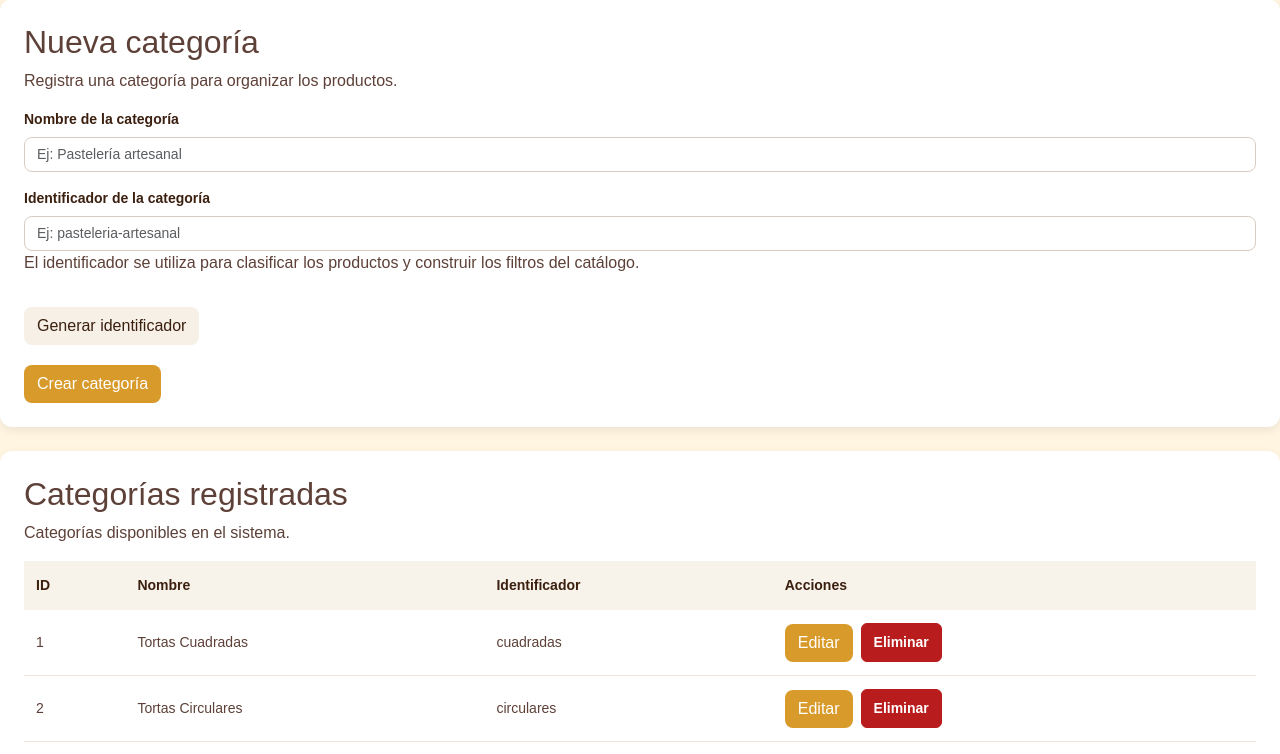
Test: C3-09 - Administración de categorías › permite editar el nombre de una categoría
This screenshot has width=1280, height=754.
(page scrolled)
expect the text "Tortas Cuadradas" is shown: met, box [125, 610, 484, 676]
Click the button with aria-label "Editar Tortas Cuadradas". click: (819, 643)
box: [785, 624, 853, 662]
(page scrolled)
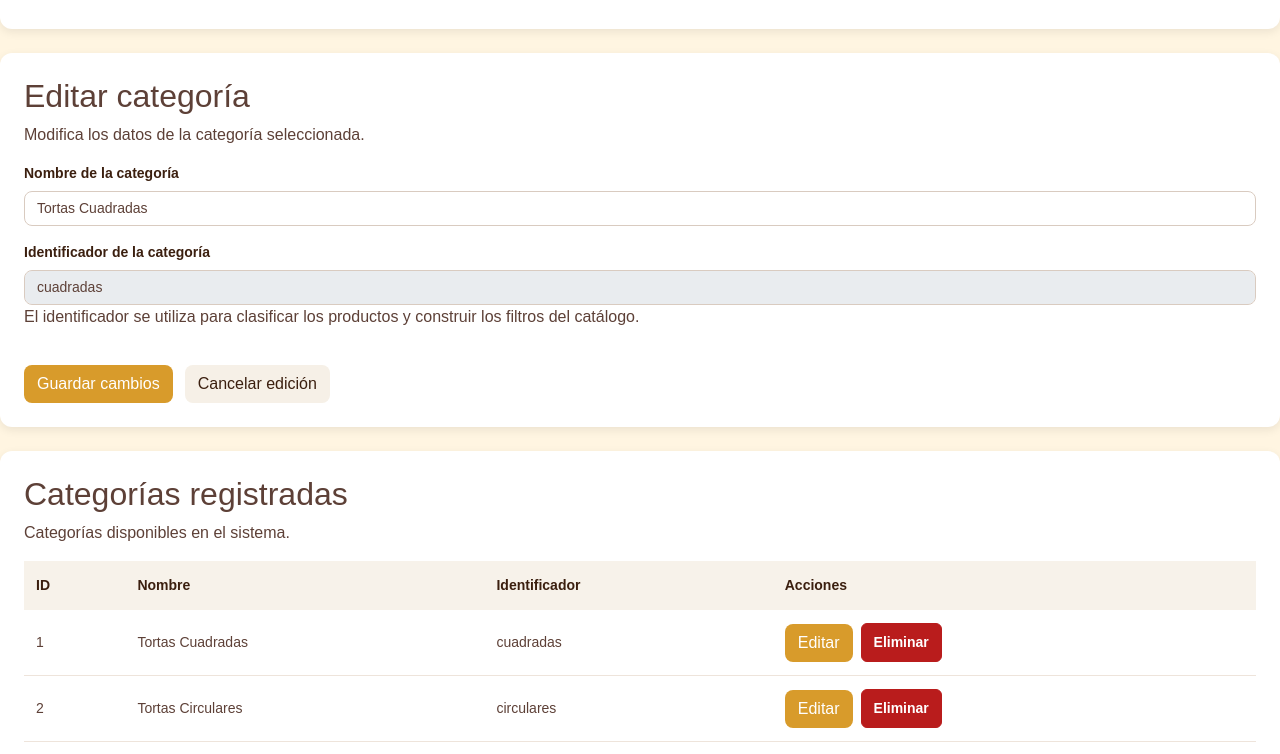
expect the field labelled "Identificador de la categoría" is disabled: met, box [24, 270, 1256, 305]
Replace the text in the field labelled "Nombre de la categoría" with "Tortas Cuadradas Editadas". click: (640, 208)
box: [24, 191, 1256, 226]
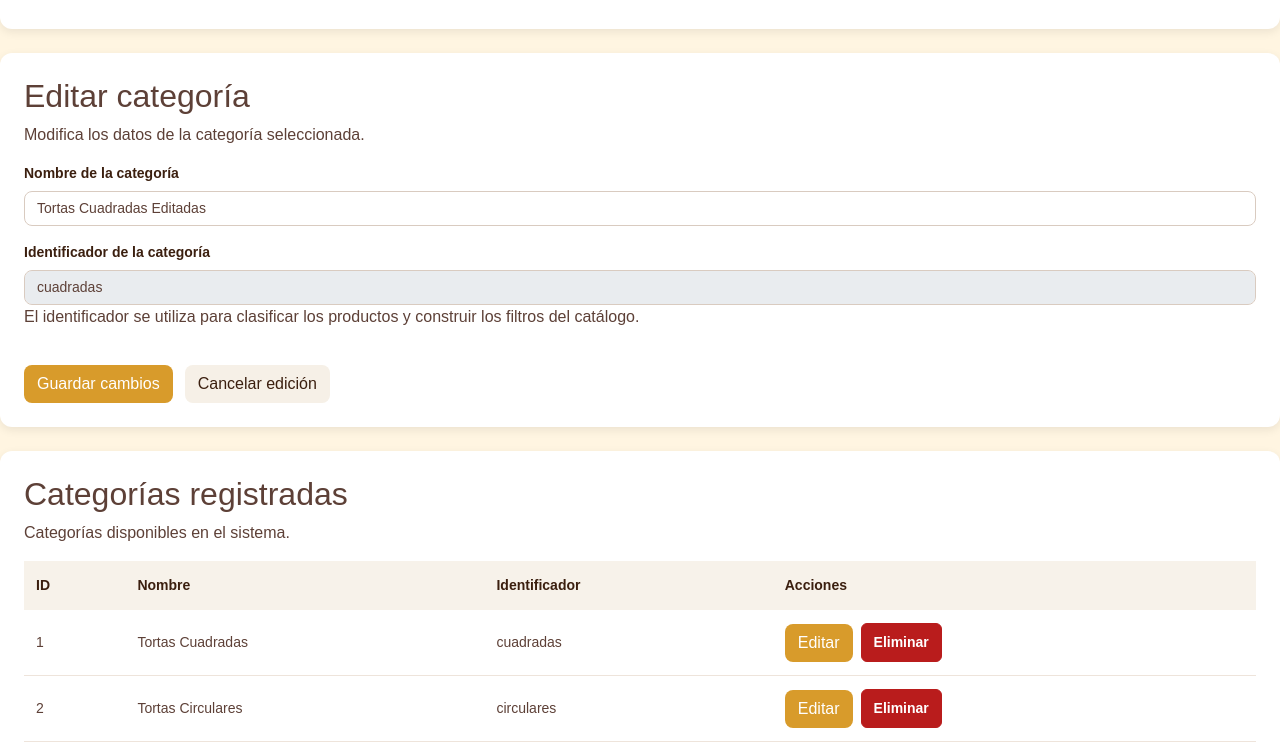
Click the button "Guardar cambios". click: (98, 384)
box: [24, 365, 173, 403]
(page scrolled)
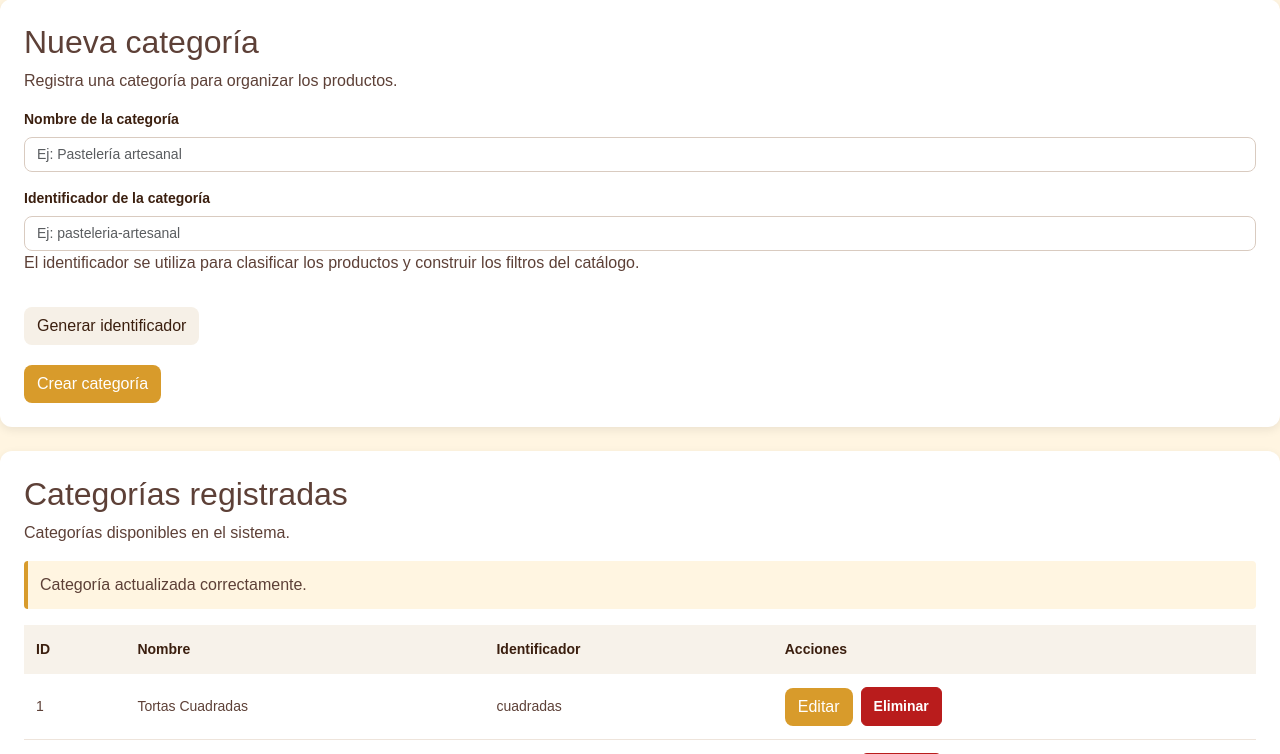
expect the text "Categoría actualizada correctamente." is shown: met, box [24, 561, 1256, 609]
